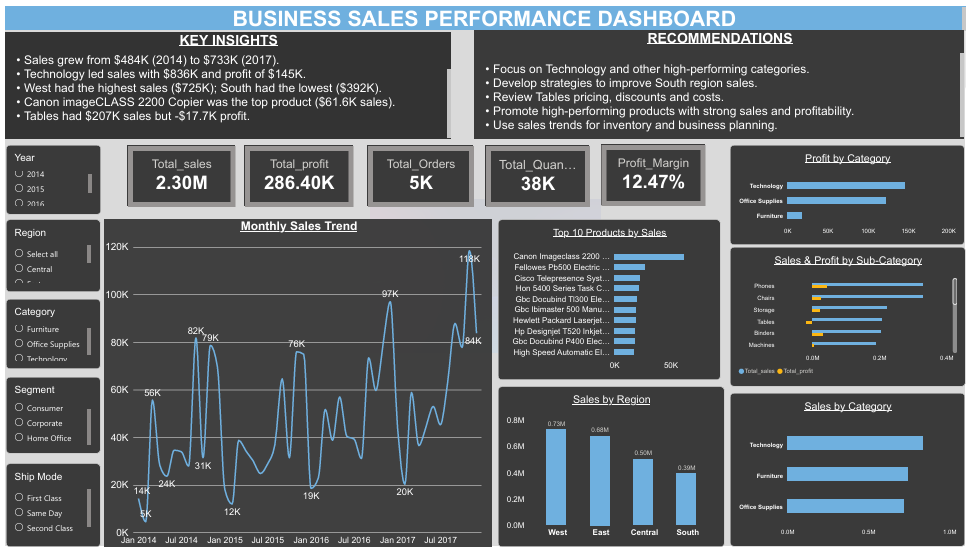

The page's visual inventory and layout, read from the dashboard file:
{"tool":"powerbi","page":{"name":"Page 1","canvas":[1920,1080],"ordinal":0},"visuals":[{"type":"cardVisual","fields":{"Data":["FUTURE INTERN PROJECT CLEANED.Profit_Margin"]},"box":[1191.1,275.6,208.5,122.9],"z":0},{"type":"lineChart","title":"Monthly Sales Trend","fields":{"Y":["FUTURE INTERN PROJECT CLEANED.Total_sales"],"Category":["FUTURE INTERN PROJECT CLEANED.Month And Year.Variation.Date Hierarchy.Year","FUTURE INTERN PROJECT CLEANED.Month And Year.Variation.Date Hierarchy.Quarter","FUTURE INTERN PROJECT CLEANED.Month And Year.Variation.Date Hierarchy.Month","FUTURE INTERN PROJECT CLEANED.Month And Year.Variation.Date Hierarchy.Day"]},"box":[197.7,425.2,776.1,654.9],"z":1000},{"type":"cardVisual","fields":{"Data":["FUTURE INTERN PROJECT CLEANED.Total_Quantity"]},"box":[960,277.8,208.5,122.9],"z":2000},{"type":"cardVisual","fields":{"Data":["FUTURE INTERN PROJECT CLEANED.Total_Orders"]},"box":[724.4,277.8,212.9,122.9],"z":3000},{"type":"cardVisual","fields":{"Data":["FUTURE INTERN PROJECT CLEANED.Total_profit"]},"box":[477.8,277.8,217.3,122.9],"z":4000},{"type":"cardVisual","fields":{"Data":["FUTURE INTERN PROJECT CLEANED.Total_sales"]},"box":[244.4,277.8,215.1,122.9],"z":5000},{"type":"clusteredBarChart","title":"Sales by Category","fields":{"Category":["FUTURE INTERN PROJECT CLEANED.Category"],"Y":["FUTURE INTERN PROJECT CLEANED.Total_sales"]},"box":[1448,771.8,469.8,307.3],"z":6000},{"type":"clusteredBarChart","title":"Profit by Category","fields":{"Category":["FUTURE INTERN PROJECT CLEANED.Category"],"Y":["FUTURE INTERN PROJECT CLEANED.Total_profit"]},"box":[1447.5,262.5,470,212.5],"z":7000},{"type":"columnChart","title":"Sales by Region","fields":{"Category":["FUTURE INTERN PROJECT CLEANED.Region"],"Y":["FUTURE INTERN PROJECT CLEANED.Total_sales"]},"box":[984.5,759.1,452.2,320.5],"z":8000},{"type":"clusteredBarChart","title":"Top 10 Products by Sales","fields":{"Category":["FUTURE INTERN PROJECT CLEANED.Product Name"],"Y":["FUTURE INTERN PROJECT CLEANED.Total_sales"]},"box":[984.5,425.2,444.4,321.1],"z":9000},{"type":"listSlicer","fields":{"Values":["FUTURE INTERN PROJECT CLEANED.Region"]},"box":[0,425.2,189.2,144.6],"z":10000},{"type":"listSlicer","fields":{"Values":["FUTURE INTERN PROJECT CLEANED.Segment"]},"box":[0,739.8,188.8,153.7],"z":11000},{"type":"listSlicer","fields":{"Values":["FUTURE INTERN PROJECT CLEANED.Category"]},"box":[0,583.9,188.8,140.5],"z":12000},{"type":"listSlicer","fields":{"Values":["FUTURE INTERN PROJECT CLEANED.Ship Mode"]},"box":[0,913.2,188.8,166.8],"z":13000},{"type":"clusteredBarChart","title":"Sales & Profit by Sub-Category","fields":{"Category":["FUTURE INTERN PROJECT CLEANED.Sub-Category"],"Y":["FUTURE INTERN PROJECT CLEANED.Total_sales","FUTURE INTERN PROJECT CLEANED.Total_profit"]},"box":[1447.5,480,472,278.8],"z":14000},{"type":"textbox","box":[0,0,1920.7,48.3],"z":15000},{"type":"textbox","title":"KEY INSIGHTS ","box":[0,51,890.9,212.6],"z":16000},{"type":"textbox","title":"RECOMMENDATIONS","box":[937.7,46.8,980.2,216.9],"z":17000},{"type":"listSlicer","fields":{"Values":["FUTURE INTERN PROJECT CLEANED.Month And Year.Variation.Date Hierarchy.Year"]},"box":[0,265,190,150],"z":18000}]}

Visuals, with their boxes in screenshot pixels (x1, y1, x2, y2), scaled from the page's 1920x1080 canvas onto the 974x553 screenshot:
cardVisual - FUTURE INTERN PROJECT CLEANED.Profit_Margin: left=604, top=141, right=710, bottom=204
"Monthly Sales Trend" lineChart: left=100, top=218, right=494, bottom=552
cardVisual - FUTURE INTERN PROJECT CLEANED.Total_Quantity: left=487, top=142, right=593, bottom=205
cardVisual - FUTURE INTERN PROJECT CLEANED.Total_Orders: left=367, top=142, right=475, bottom=205
cardVisual - FUTURE INTERN PROJECT CLEANED.Total_profit: left=242, top=142, right=353, bottom=205
cardVisual - FUTURE INTERN PROJECT CLEANED.Total_sales: left=124, top=142, right=233, bottom=205
"Sales by Category" clusteredBarChart: left=735, top=395, right=973, bottom=552
"Profit by Category" clusteredBarChart: left=734, top=134, right=973, bottom=243
"Sales by Region" columnChart: left=499, top=389, right=729, bottom=552
"Top 10 Products by Sales" clusteredBarChart: left=499, top=218, right=725, bottom=382
listSlicer - FUTURE INTERN PROJECT CLEANED.Region: left=0, top=218, right=96, bottom=292
listSlicer - FUTURE INTERN PROJECT CLEANED.Segment: left=0, top=379, right=96, bottom=458
listSlicer - FUTURE INTERN PROJECT CLEANED.Category: left=0, top=299, right=96, bottom=371
listSlicer - FUTURE INTERN PROJECT CLEANED.Ship Mode: left=0, top=468, right=96, bottom=552
"Sales & Profit by Sub-Category" clusteredBarChart: left=734, top=246, right=973, bottom=389
textbox: left=0, top=0, right=973, bottom=25
"KEY INSIGHTS " textbox: left=0, top=26, right=452, bottom=135
"RECOMMENDATIONS" textbox: left=476, top=24, right=973, bottom=135
listSlicer - FUTURE INTERN PROJECT CLEANED.Month And Year.Variation.Date Hierarchy.Year: left=0, top=136, right=96, bottom=212
